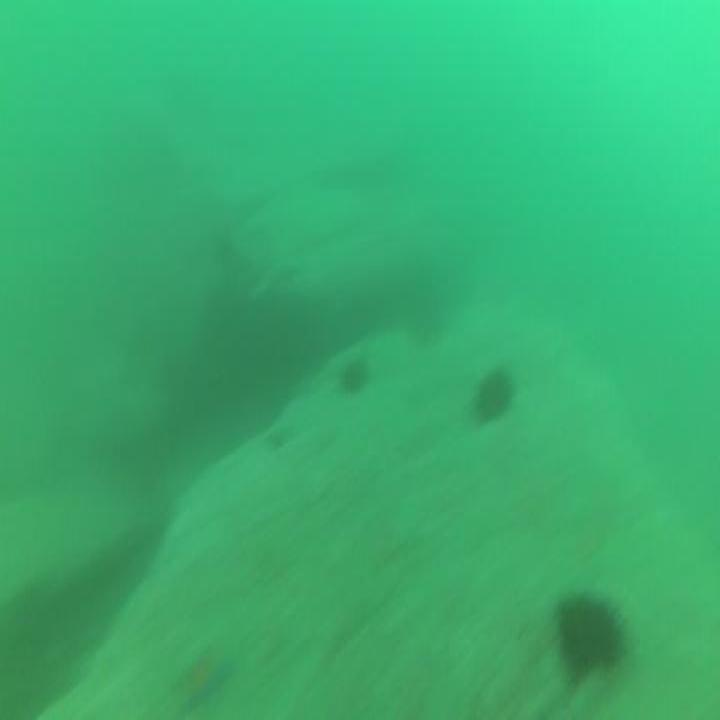echinus: (549, 583, 628, 690), (472, 359, 514, 429), (334, 352, 372, 402)
starfish: (171, 636, 235, 716)
